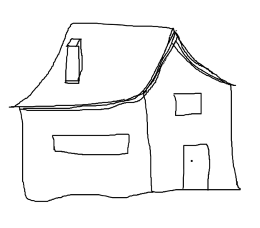chimney: (65, 38, 82, 84)
door: (177, 138, 216, 196)
open_window: (51, 133, 129, 155), (172, 91, 202, 116)
roof: (9, 22, 235, 111)
wall: (140, 76, 241, 193)
